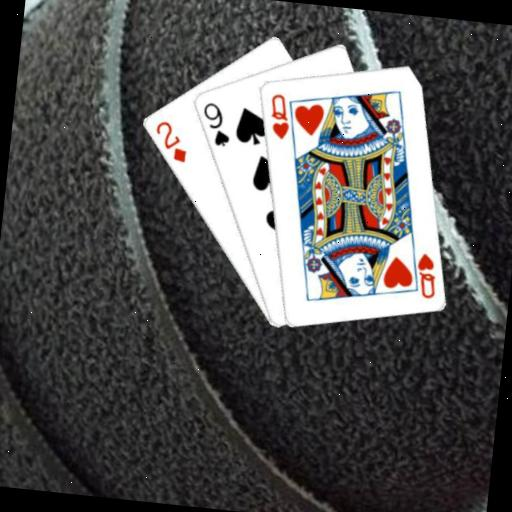2D: (149, 117, 191, 166)
9S: (196, 98, 235, 149)
QH: (403, 244, 441, 301), (264, 90, 295, 142)
